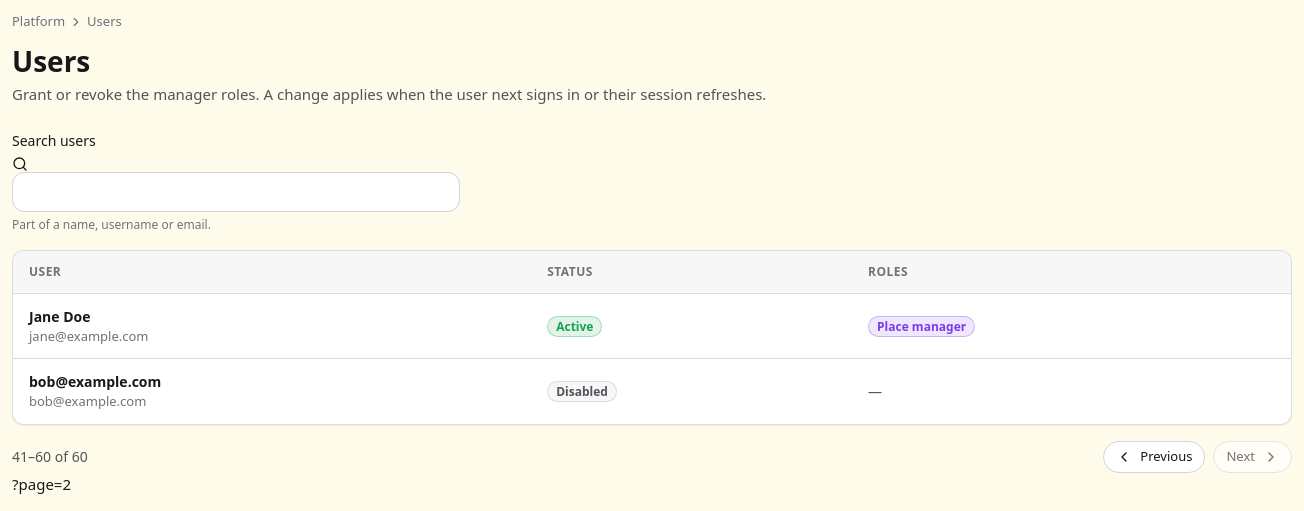
Scenario: UsersPage › searches once typing pauses, from the first page, and keeps the search in each user's link
The image size is (1304, 511).
Expected: the link "Jane Doe jane@example.com" is shown, [29,306,148,344]
Type "  jane " into the search field labelled "Search users" at (236, 192), box [12,172,460,212]
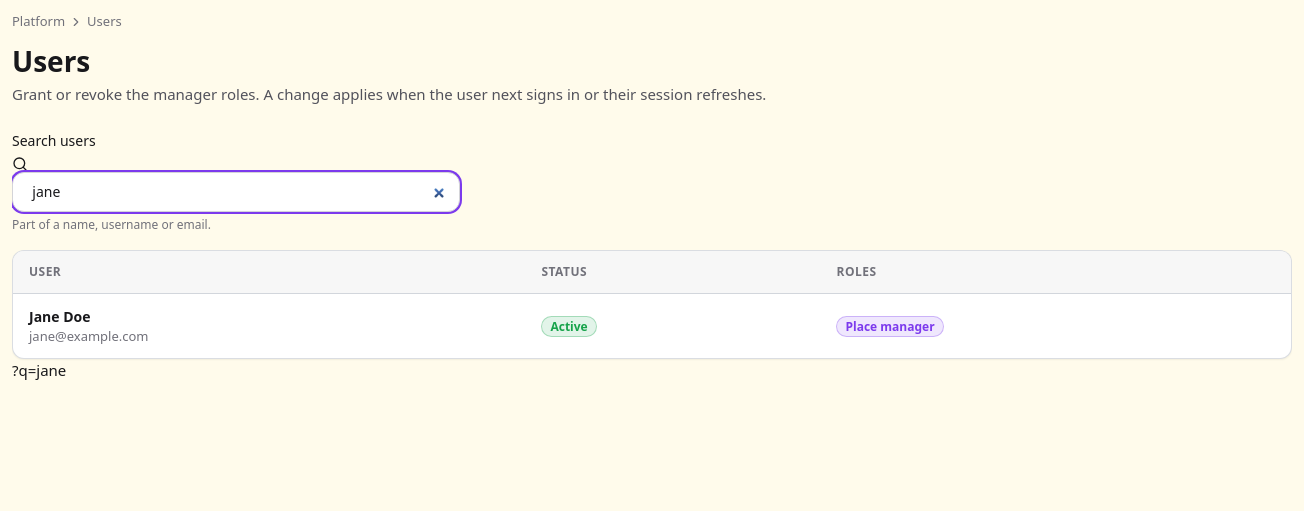
Result: the text named "search params" reads "?q=jane" at [12,360,66,380]
Result: no links "bob@example.com" are shown
